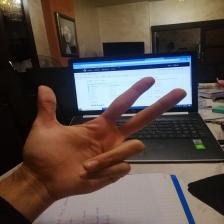three: (30, 76, 192, 194)
